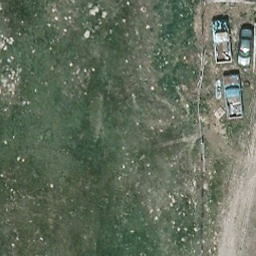car: (238, 29, 255, 67)
pickup: (222, 74, 246, 119), (212, 20, 234, 64)
